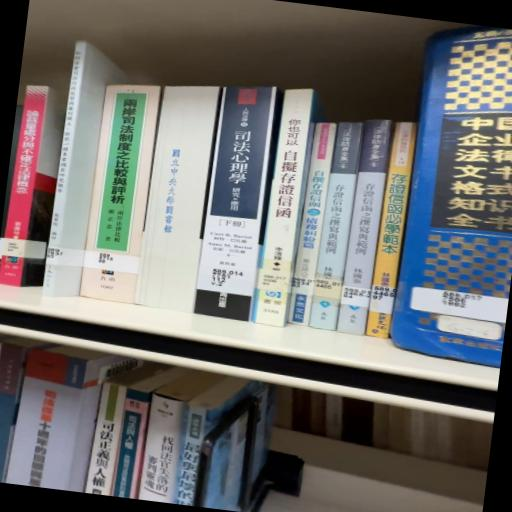backward: (133, 83, 222, 316)
book: (194, 84, 284, 331), (47, 41, 125, 250), (250, 90, 315, 336), (87, 77, 162, 254), (138, 390, 192, 503)
